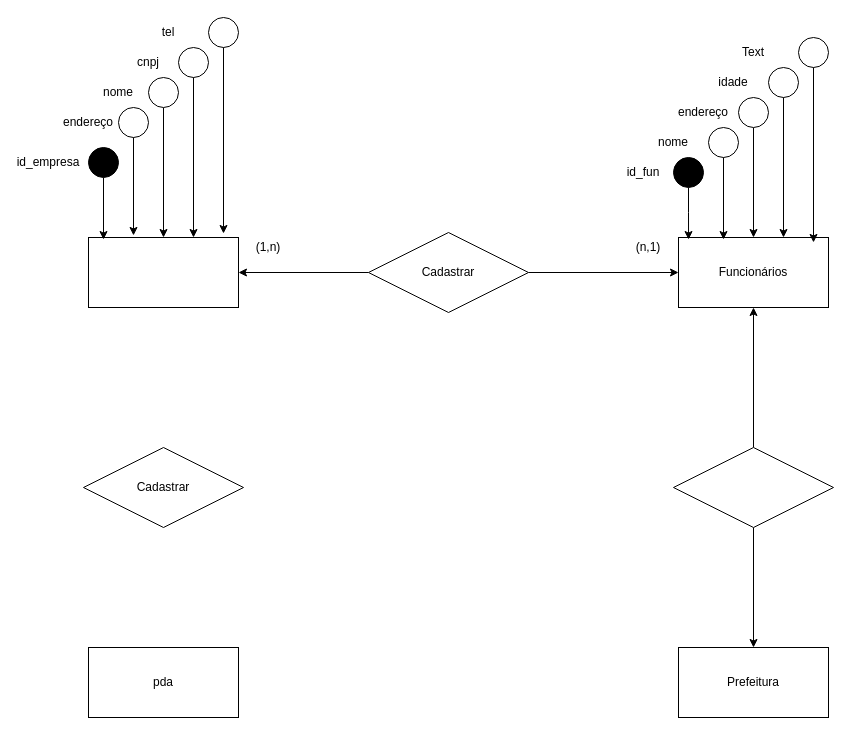
Image size: 851x735. Some labels were removed from this diagram. The centre of each missing label's shape, as x and y in pixels:
Empresas: [163,272]
Matricular: [753,487]
